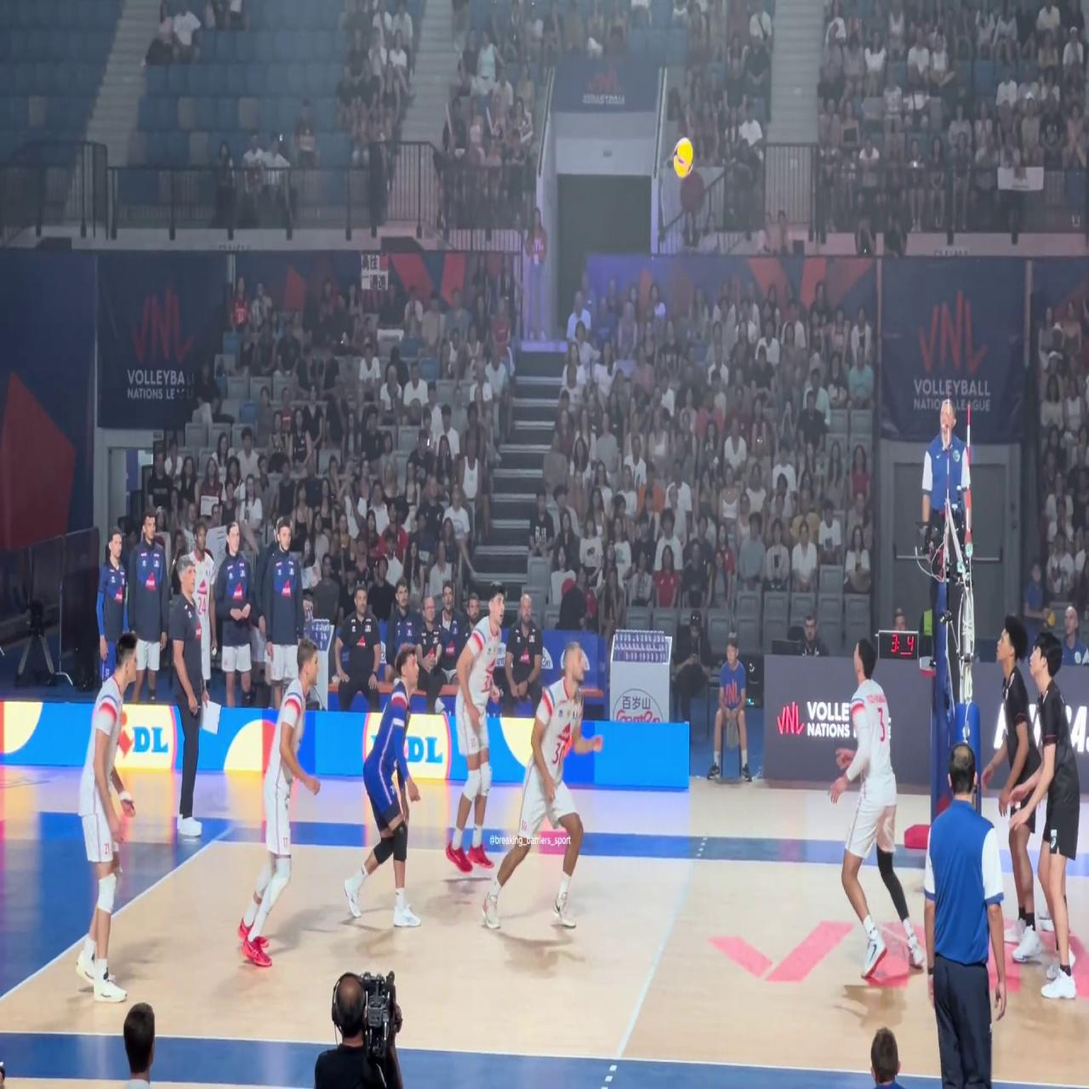ball: (673, 137, 694, 180)
